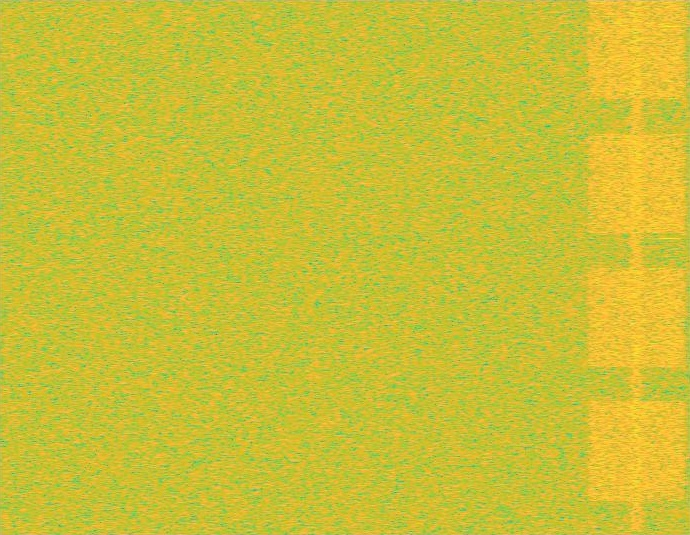5G: (585, 0, 688, 534)
DSSS: (630, 0, 644, 534)
Radar: (662, 0, 676, 534)
